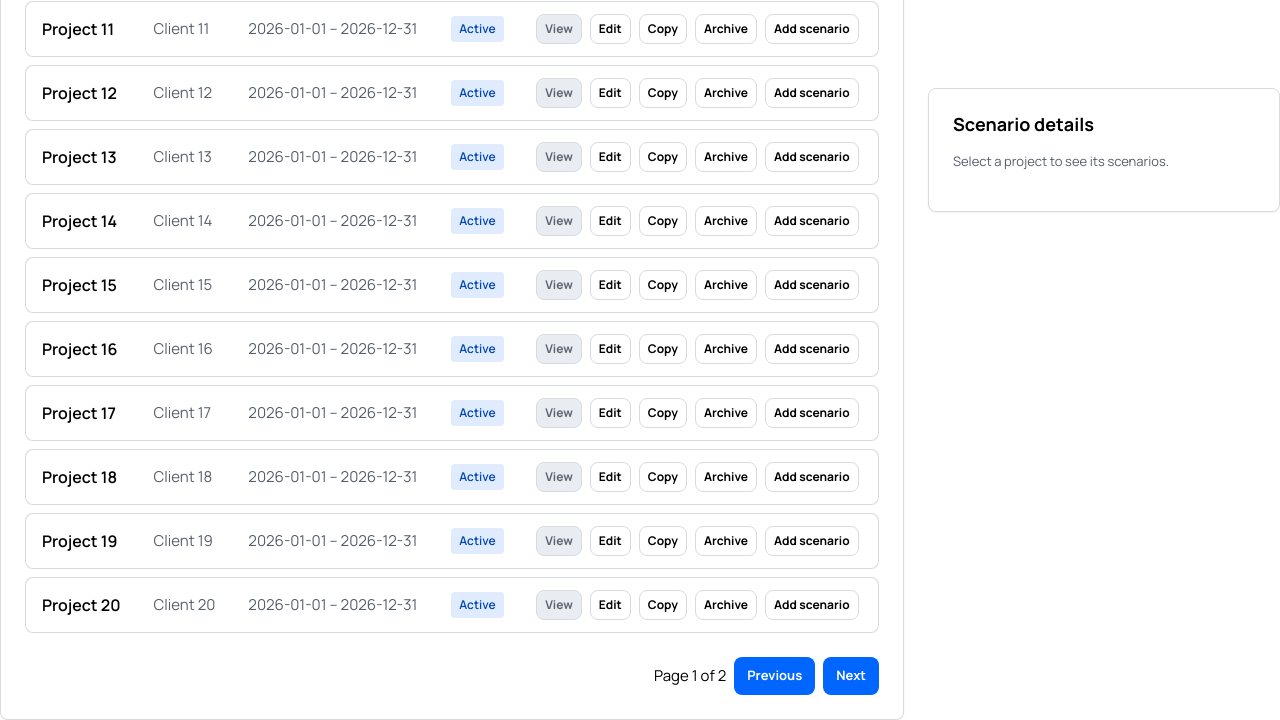
project search and pagination › renders a server-returned second page and resets to offset zero when criteria change
The width and height of the screenshot is (1280, 720).
(page scrolled)
Step 1. Click the button "Next" → {"x": 851, "y": 676}, box [823, 657, 879, 695]
(page scrolled)
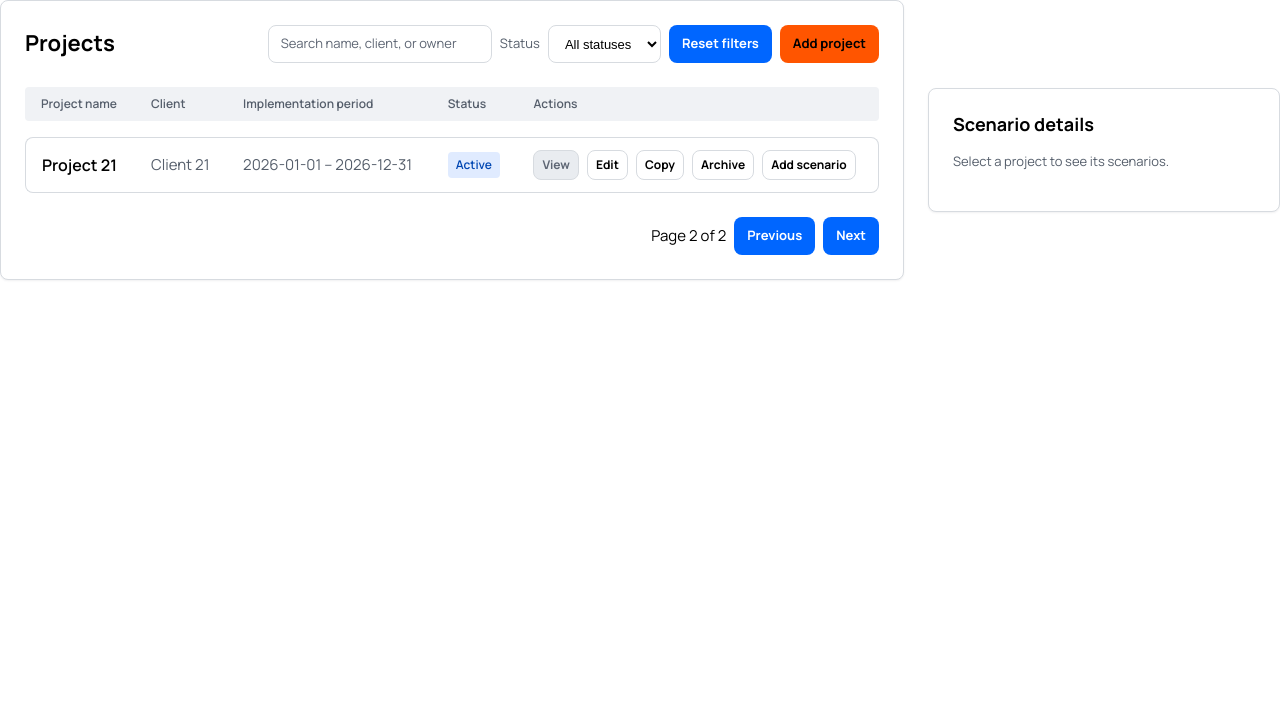
Now the button "Project 21" is shown, box [42, 153, 117, 177]
Now the text "Page 2 of 2" is shown, box [651, 225, 726, 247]
Step 2. Type "Orchid" into the search field named "Search projects" → {"x": 380, "y": 44}, box [268, 25, 492, 63]
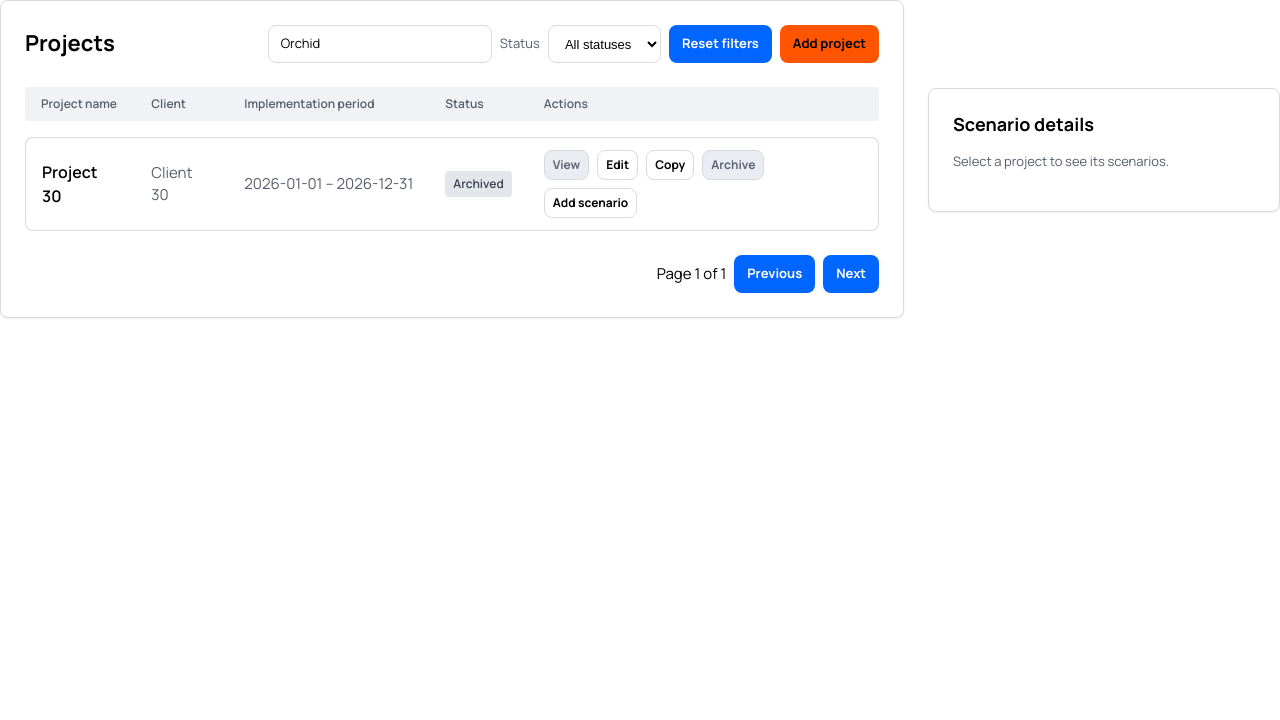
Now the row "Project 30" is shown, box [25, 137, 879, 231]
Now the text "Page 1 of 1" is shown, box [657, 263, 726, 285]
